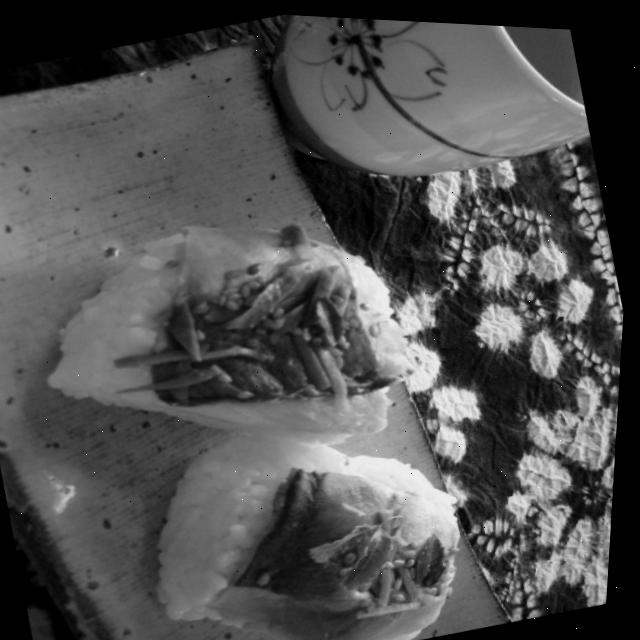寿司卷物: (0, 118, 540, 640)
